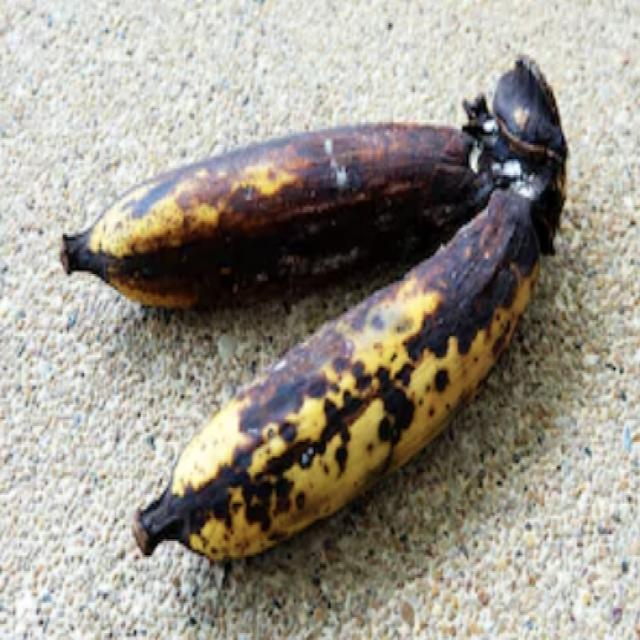rotten-banana: (144, 225, 602, 565), (64, 52, 572, 306)
